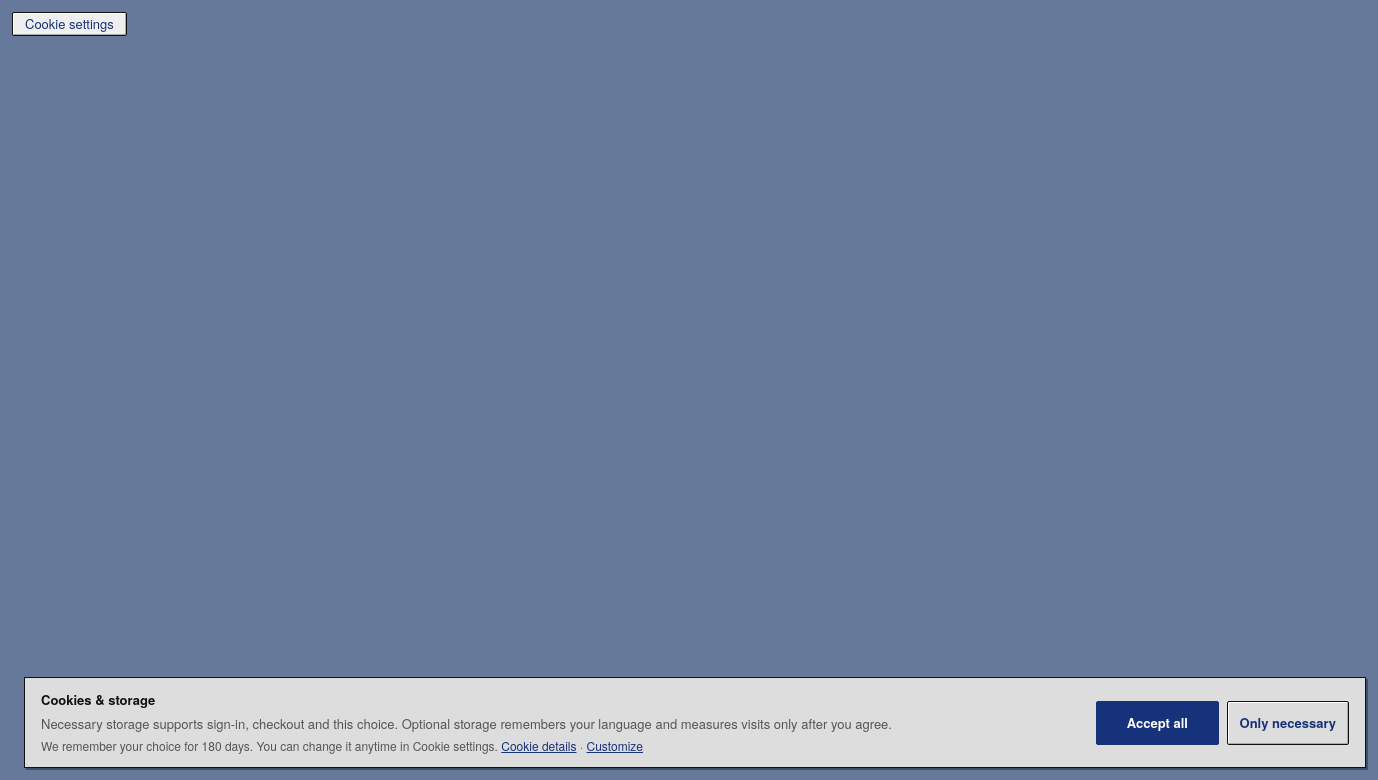
Test case: cookie choices › asks a returning v1 visitor about analytics without dropping their language
Click the button "Cookie settings" at (69, 24), box [12,12,127,36]
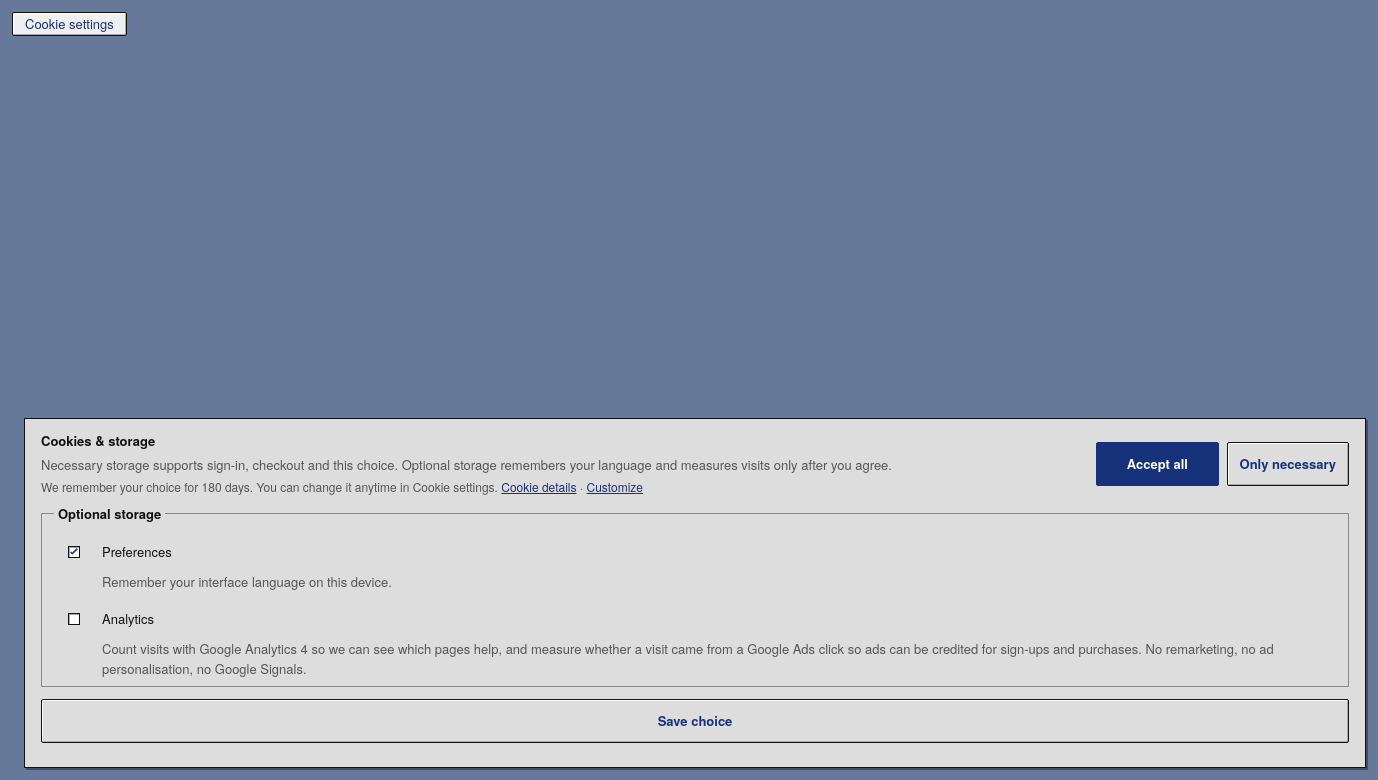
Check: the button "Customize" is expanded, box [586,478,643,496]
Check: the checkbox labelled "Preferences" is checked, box [68,542,172,561]
Check: the checkbox labelled "Analytics" is not checked, box [68,609,154,628]
